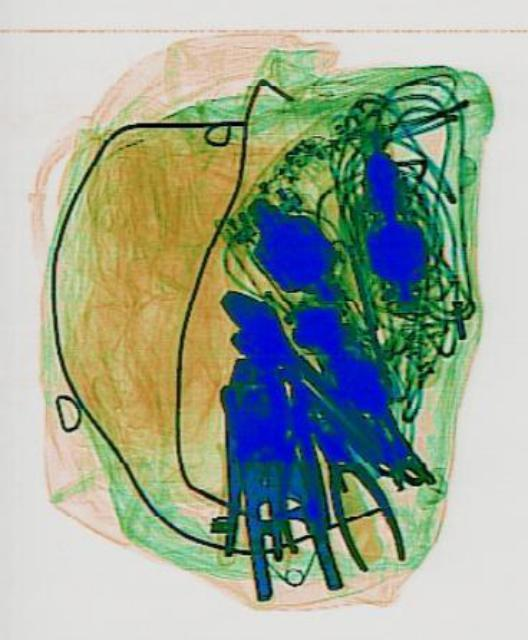Pliers: (216, 378, 340, 608), (287, 395, 410, 581), (210, 354, 292, 560)
